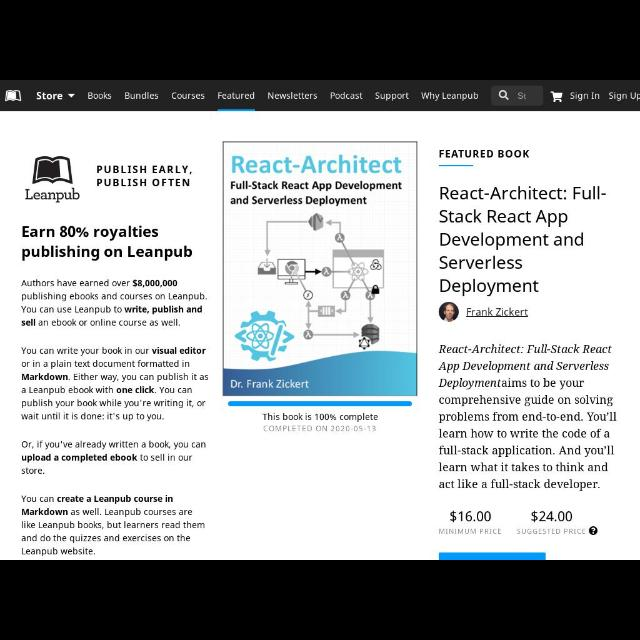icon: (5, 90, 21, 102), (550, 91, 564, 102), (499, 90, 509, 100), (590, 526, 596, 534), (68, 92, 74, 98)
image: (224, 142, 416, 398), (26, 156, 82, 202)
input: (492, 88, 542, 102)
spinner: (36, 92, 76, 102)
text: (440, 343, 616, 491), (440, 187, 606, 297), (22, 346, 210, 420), (21, 495, 205, 557), (21, 280, 207, 326), (22, 225, 192, 263), (22, 441, 205, 474), (262, 412, 380, 434), (96, 165, 192, 188), (438, 148, 530, 162), (516, 527, 586, 537), (466, 307, 528, 317), (440, 527, 502, 537), (449, 510, 491, 524), (422, 92, 478, 102), (530, 512, 572, 524), (267, 90, 317, 100), (218, 91, 256, 101), (608, 90, 640, 100), (570, 92, 600, 102), (122, 92, 158, 100), (171, 92, 205, 100), (374, 92, 408, 100), (331, 92, 364, 100), (36, 92, 62, 102), (88, 92, 114, 100), (516, 91, 526, 99)
toolbar: (1, 81, 639, 111)
